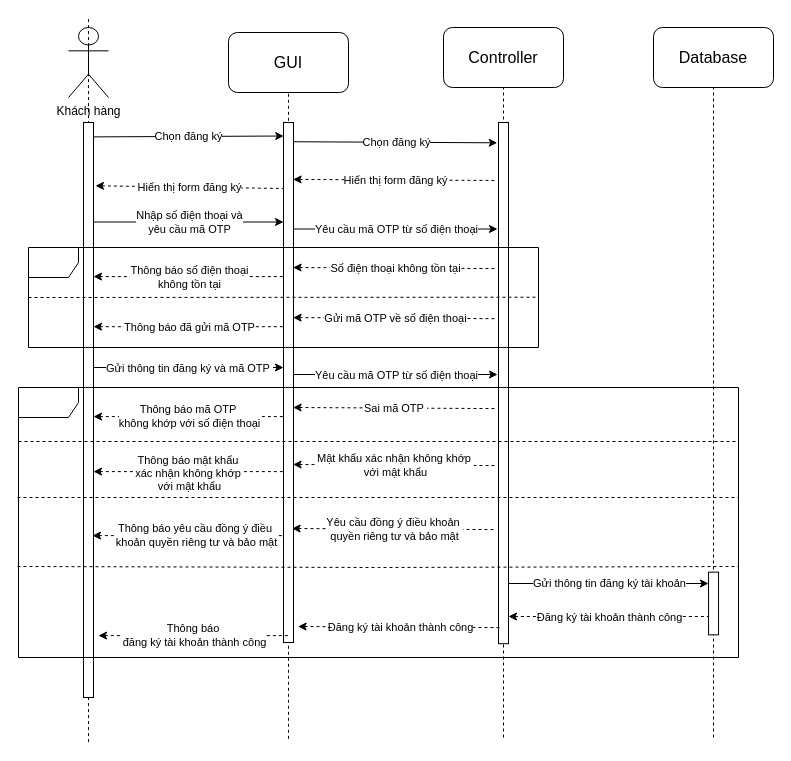
This 791x761 diagram has some shape labels left out. Each missing label, with the centre of its shape:
"Mã OTP" belongs at [283,297].
"Xác nhận" belongs at [378,522].
